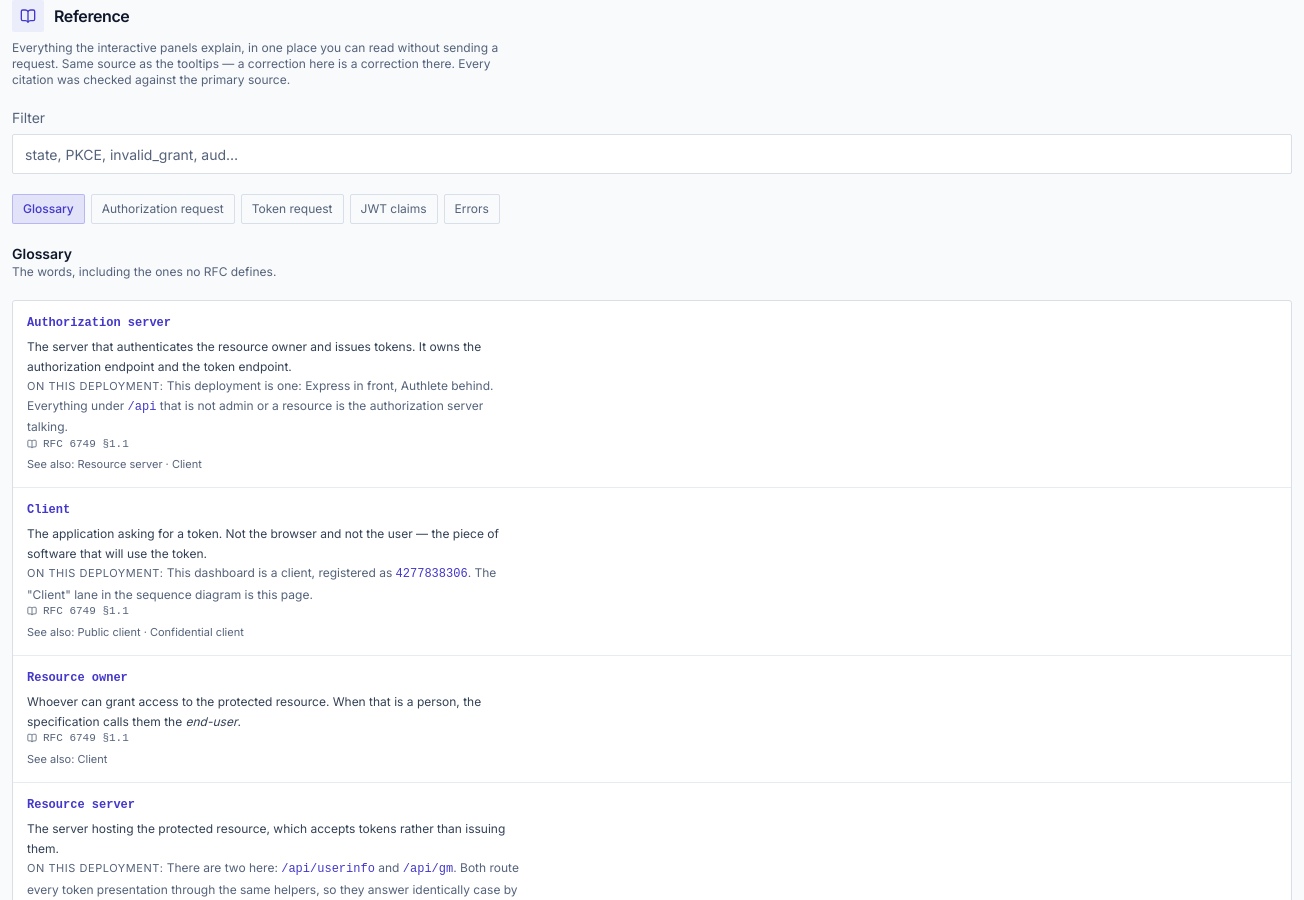
Test: ReferencePage › filters across every section rather than only the visible one
The image size is (1304, 900).
Type "sender-constrained" into the field labelled "Filter".
click(652, 154); type("sender-constrained")  # box [12,134,1292,174]
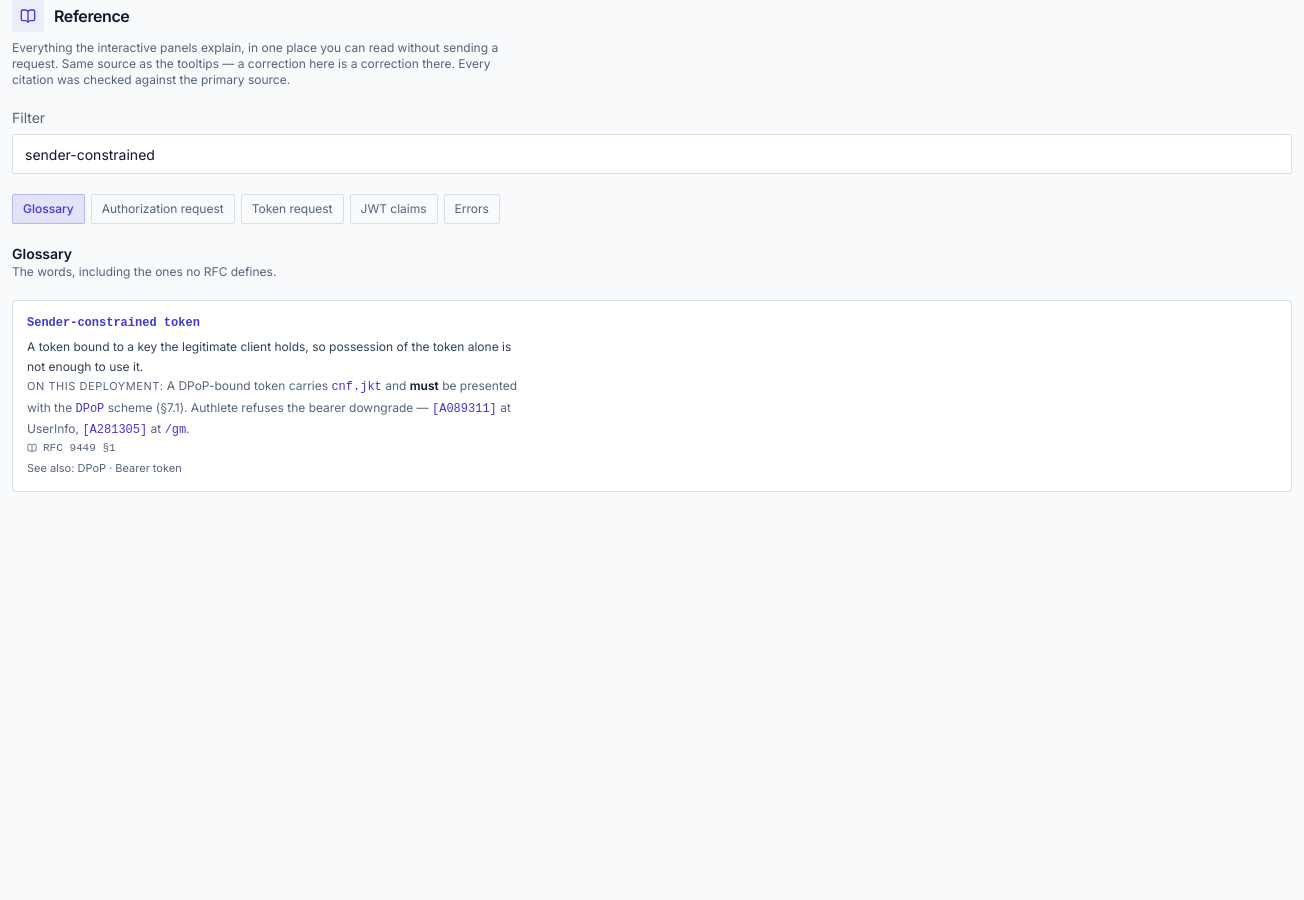
Expected: the heading "Sender-constrained token" is shown, [27,315,200,331]
Result: the text "resource owner" is gone
